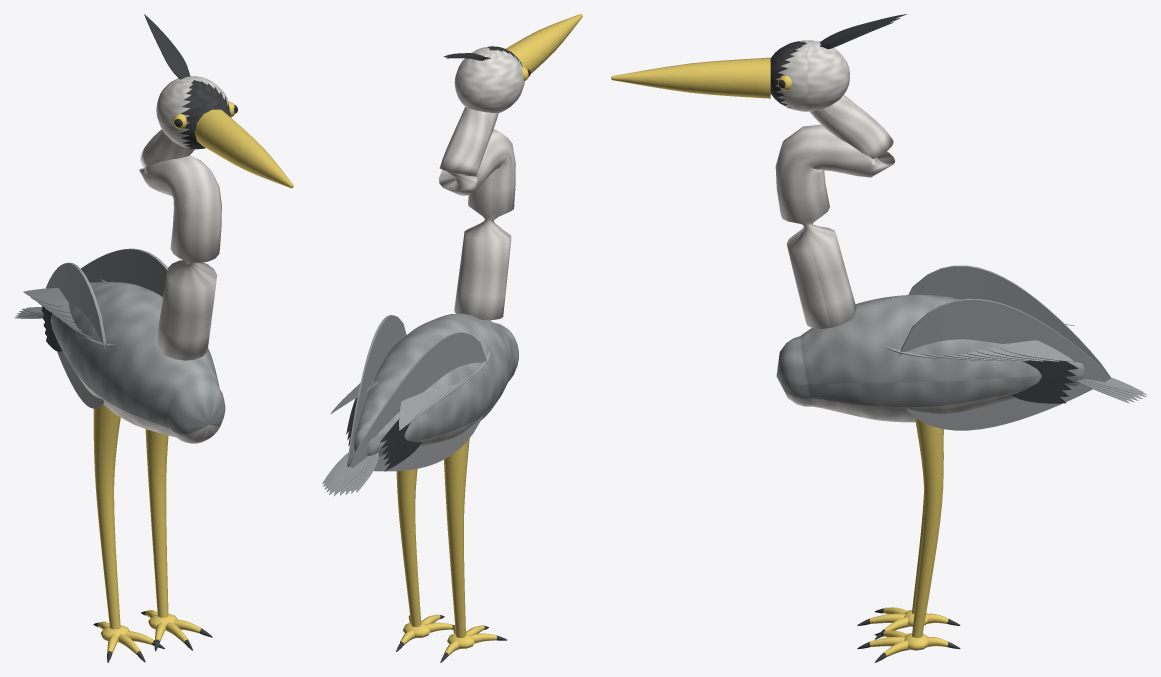
The model's file is dagger-4.glb.
3 renders of one model, left to right at view 1: azimuth 30°, elevation 25°; view 2: azimuth 150°, elevation 25°; view 3: azimuth 270°, elevation 25°, orthographic. The views are drawn at different scales.
Parts seen in each view (by area): view 1: grey-heron; view 2: grey-heron; view 3: grey-heron.
Part boxes in pixels (<box>): grey-heron: <box>14,14,293,662</box>; grey-heron: <box>322,14,582,662</box>; grey-heron: <box>611,14,1146,662</box>.
Size of the model in its own units: 0.2521 by 1.43 by 1.11.
5 materials, 3 textured.
